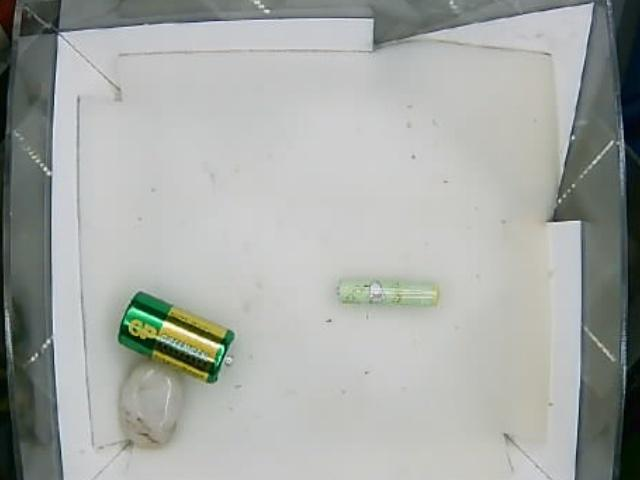Battery: (119, 293, 238, 381), (334, 279, 439, 307)
Pebble: (116, 360, 185, 449)
